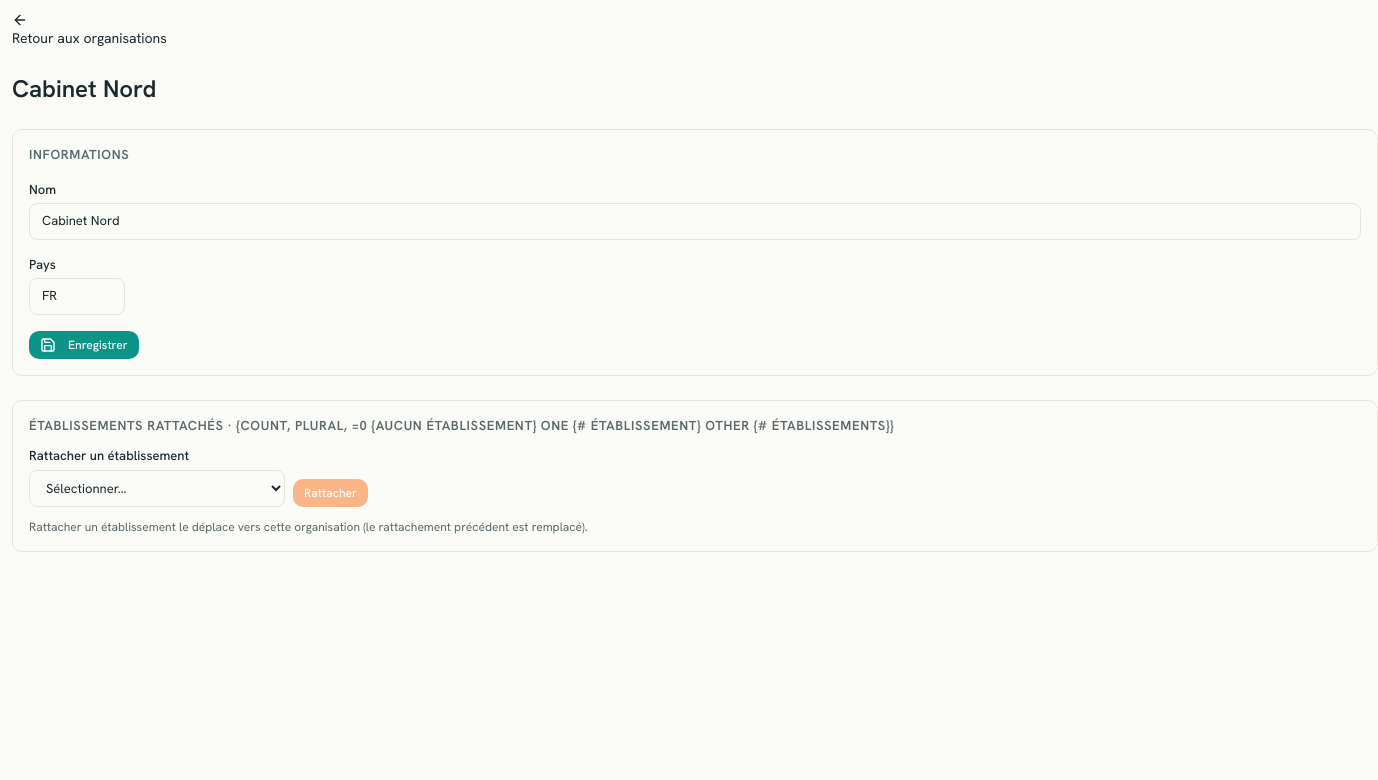
TenantDetailClient › rattache un établissement (POST + CSRF) et conserve le message de succès
Select "Établissement A" in the dropdown labelled "Rattacher un établissement" at (157, 488), box left=29, top=470, right=285, bottom=507
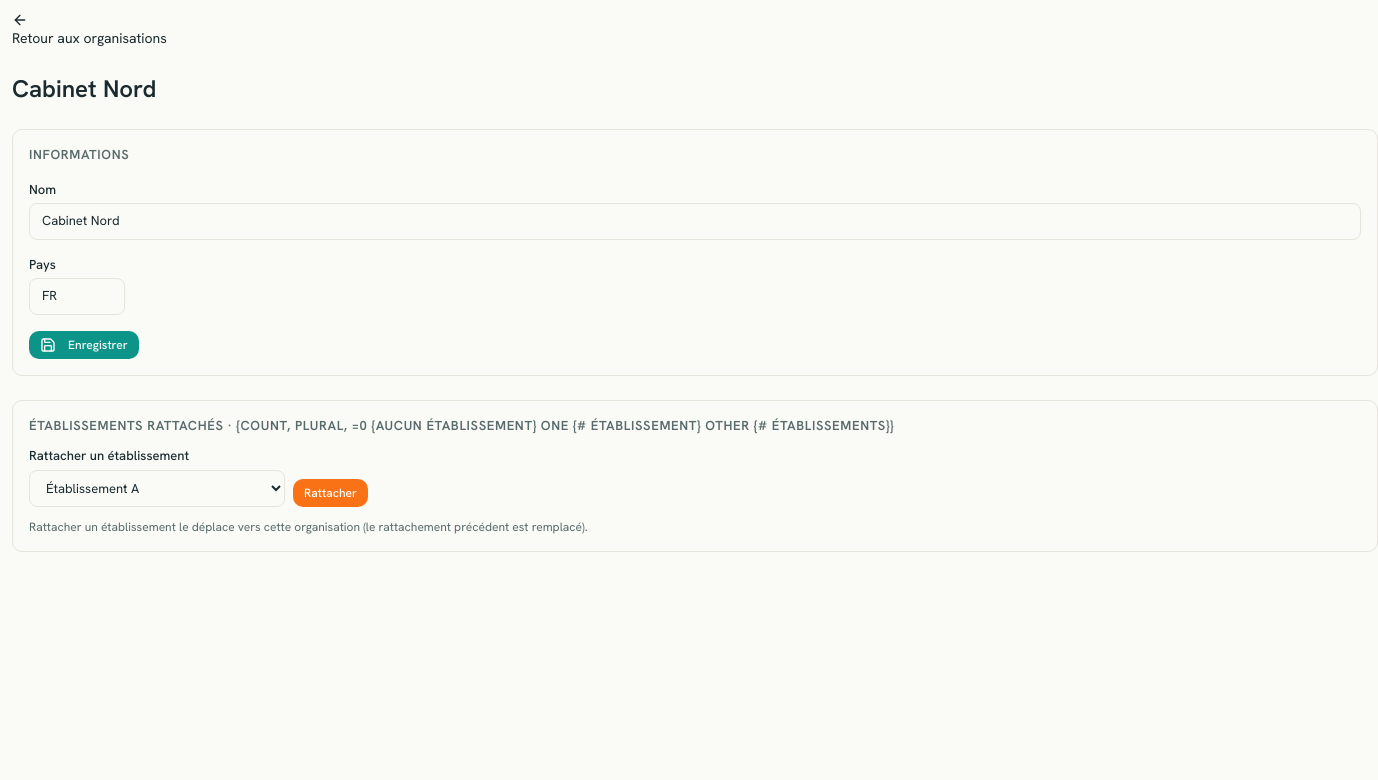
Click the button "Rattacher" at (330, 493), box left=293, top=479, right=368, bottom=507
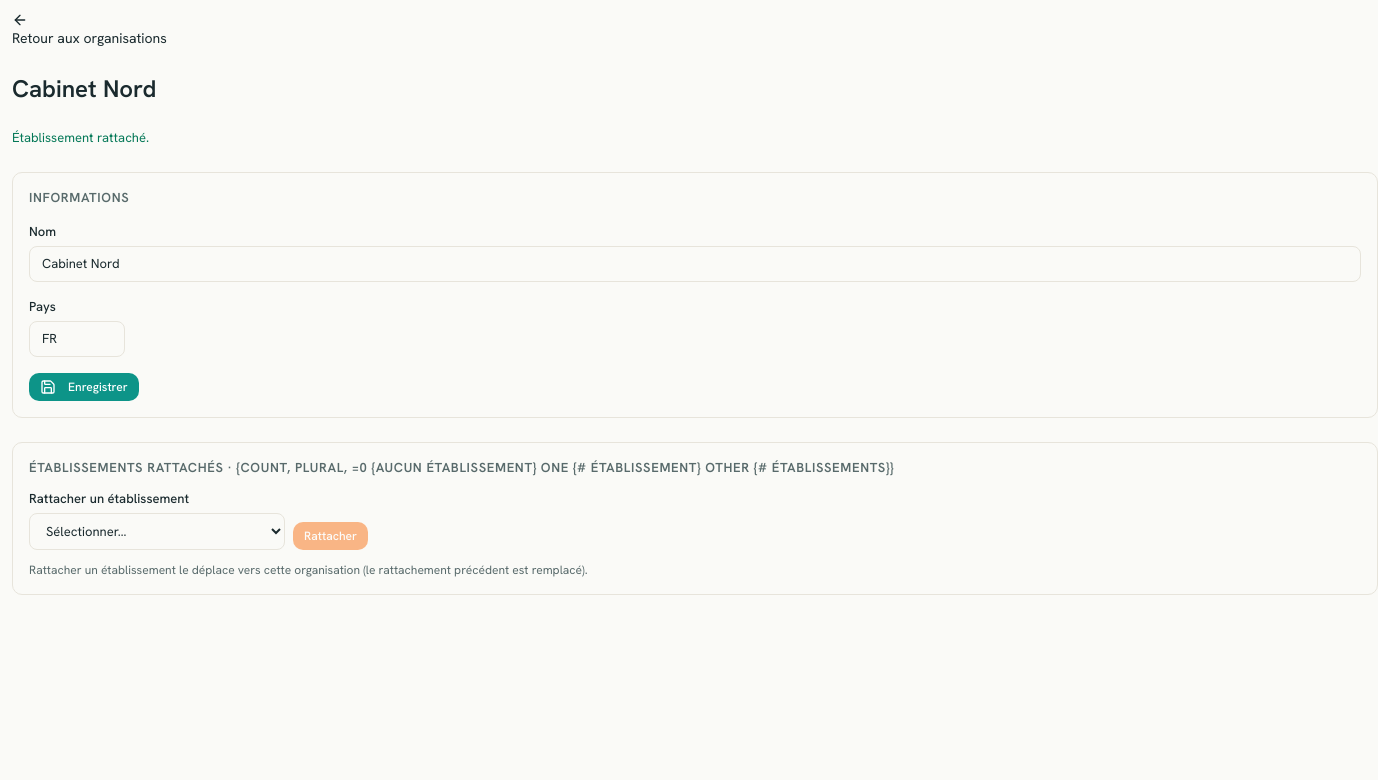
Expected: the heading "Cabinet Nord" is shown, left=12, top=73, right=156, bottom=104
Now the text "Établissement rattaché." is shown, box left=12, top=129, right=149, bottom=146
